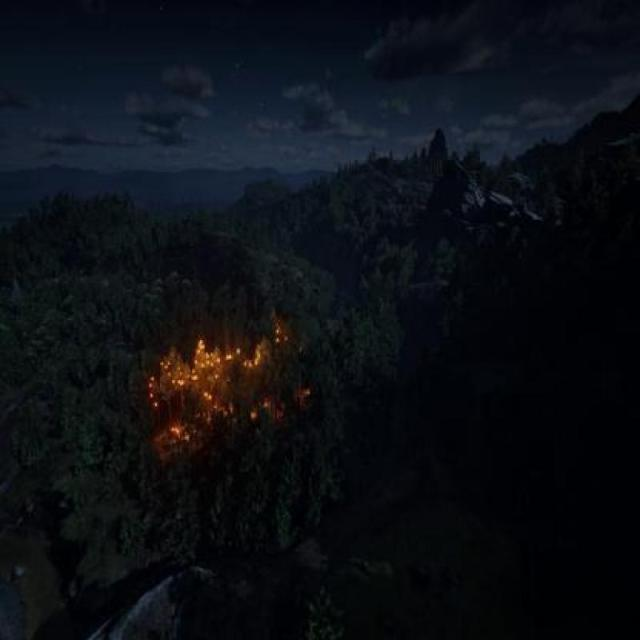Fire: (136, 324, 322, 450)
